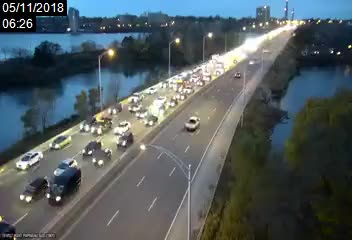personal_car: (43, 173, 83, 203), (19, 177, 49, 203), (15, 149, 43, 171), (53, 157, 79, 175), (92, 148, 111, 167), (50, 133, 69, 151), (114, 132, 133, 149), (184, 114, 201, 131), (115, 120, 134, 133), (95, 120, 111, 135), (81, 117, 95, 131), (108, 102, 123, 113), (128, 101, 143, 112), (145, 114, 157, 127), (129, 91, 142, 101), (183, 85, 197, 94), (147, 85, 157, 96), (166, 77, 179, 85), (161, 80, 171, 90), (176, 91, 187, 100), (195, 78, 205, 87)
